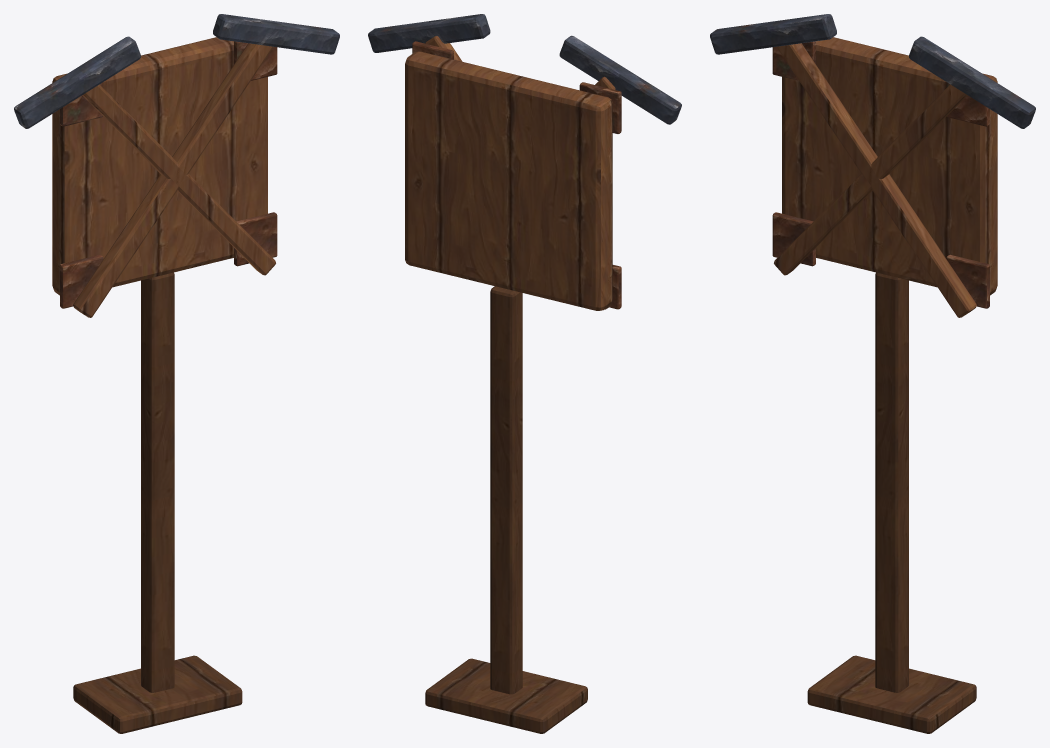
File: crossed_pickaxes.glb
The picture shows the model from 3 angles, left to right: view 1: azimuth 30°, elevation 25°; view 2: azimuth 150°, elevation 25°; view 3: azimuth 330°, elevation 25°; orthographic projection. The views are drawn at different scales.
Visible parts, largest first — view 1: model; view 2: model; view 3: model.
Boxes of the visible parts, x1,y1,x2,y2 form: model: (14, 14, 339, 733); model: (368, 14, 681, 733); model: (710, 14, 1035, 733).
Bounding box in the file's own units: 0.7735 × 1.59 × 0.2.
Materials: 4 (4 with a texture image).
